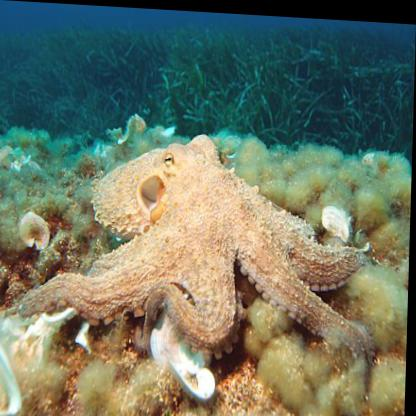Squid: (13, 121, 380, 362)
